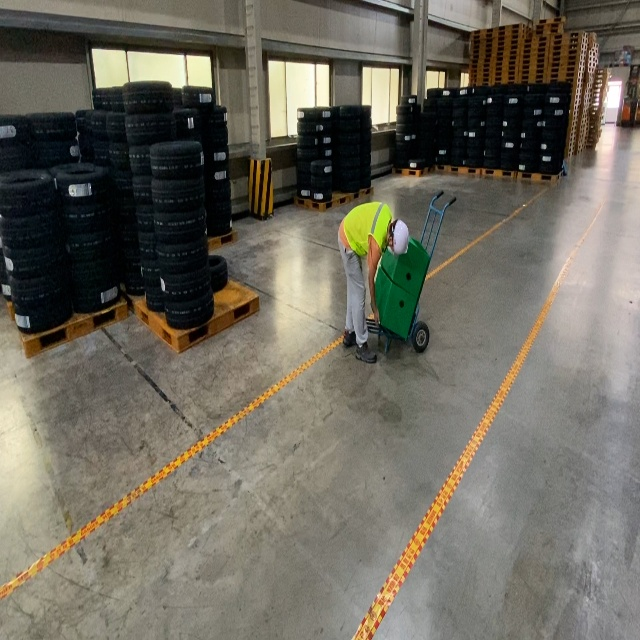Box: (370, 265, 417, 339), (380, 233, 430, 298)
Worker: (337, 202, 409, 363)
